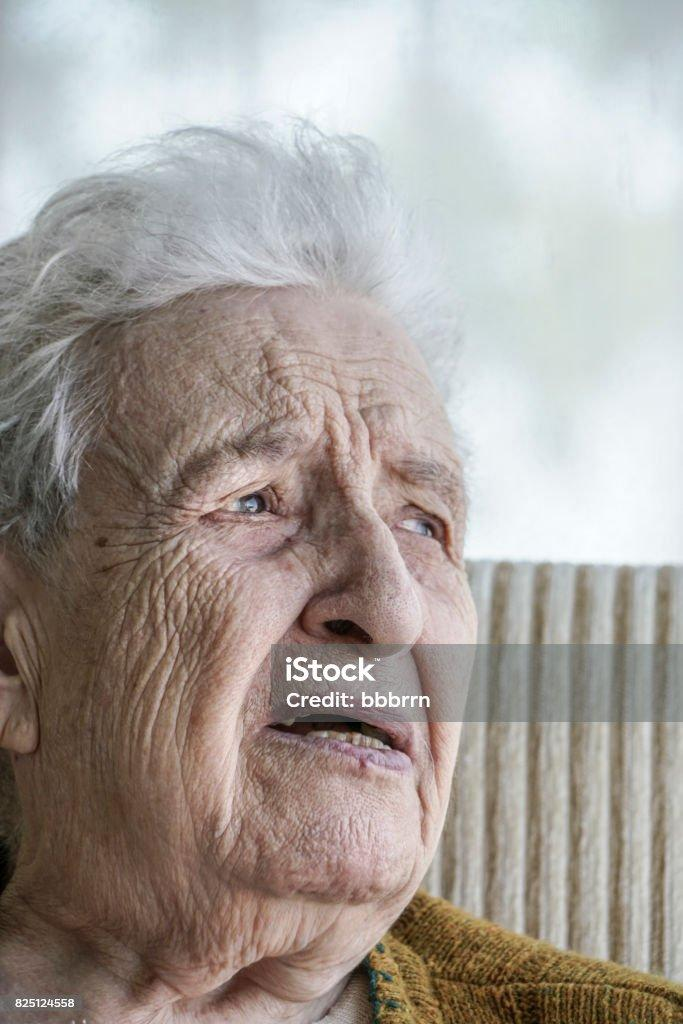Dry-Skin: (118, 524, 244, 886), (234, 328, 466, 448), (311, 788, 473, 935)
